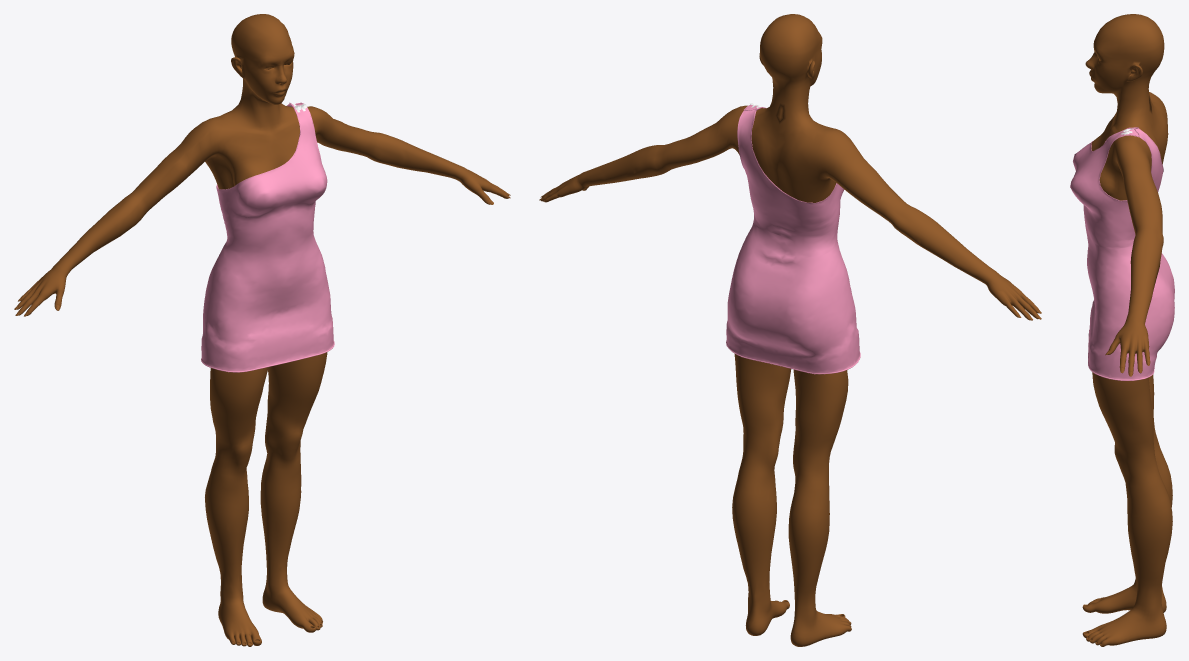
The model's file is dress1.glb.
The picture shows the model from 3 angles, left to right: view 1: azimuth 30°, elevation 25°; view 2: azimuth 150°, elevation 25°; view 3: azimuth 270°, elevation 25°; orthographic projection.
Parts seen in each view (by area): view 1: Body, WhiteDress; view 2: Body, WhiteDress; view 3: Body, WhiteDress.
Boxes of the visible parts, x1,y1,x2,y2 form: Body: [16, 14, 510, 646]; WhiteDress: [201, 102, 334, 372]; Body: [540, 14, 1038, 646]; WhiteDress: [726, 103, 860, 374]; Body: [1082, 14, 1172, 646]; WhiteDress: [1070, 127, 1174, 380].
Bounding box in the file's own units: 1.58 × 1.85 × 0.288.
